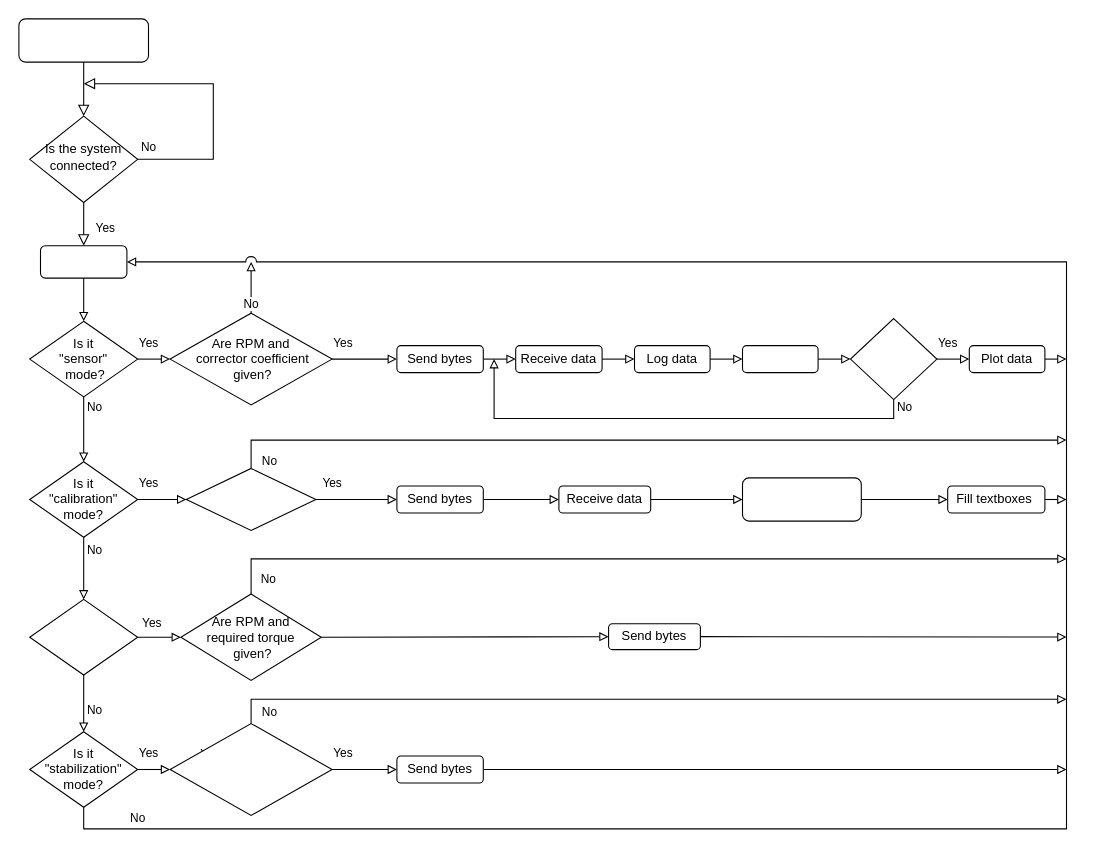
Image size: 1094x856. Some labels were removed from this diagram. The shapes that lost their labels are listed below. From the top down, each one's centre as x and y in pixels, then its label:
(x=83, y=40): Initialize GUI
(x=83, y=261): Get mode
(x=779, y=359): Show data
(x=893, y=359): Is "stop" signal given?
(x=250, y=498): Is RPM given?
(x=801, y=499): Calculate corrector coefficient
(x=83, y=636): Is it "actuator" mode?
(x=250, y=769): Are RPM, corrector and PID coefficients given?
